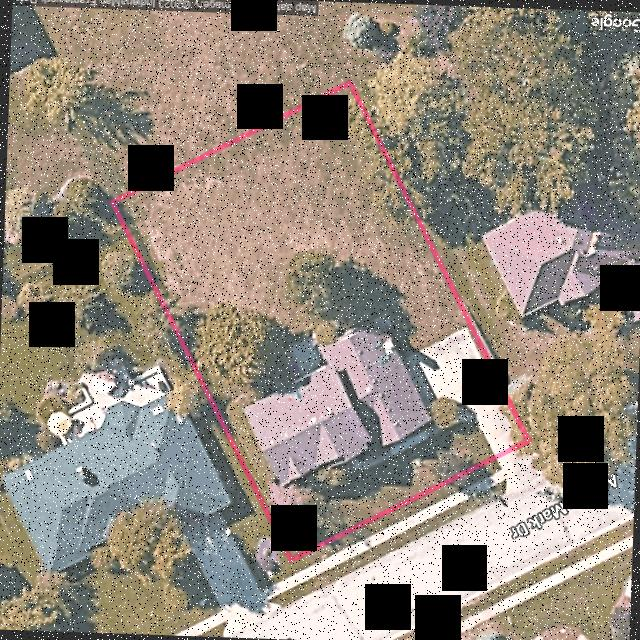Driveway: (402, 328, 524, 454)
Extra Driveway: (496, 441, 546, 493)
Extra Lawn: (290, 457, 500, 571), (302, 479, 504, 592)
Extra Sidewalk: (296, 469, 505, 581)
House: (241, 316, 433, 481)
Sidewalk: (350, 404, 476, 468), (287, 334, 322, 375)
